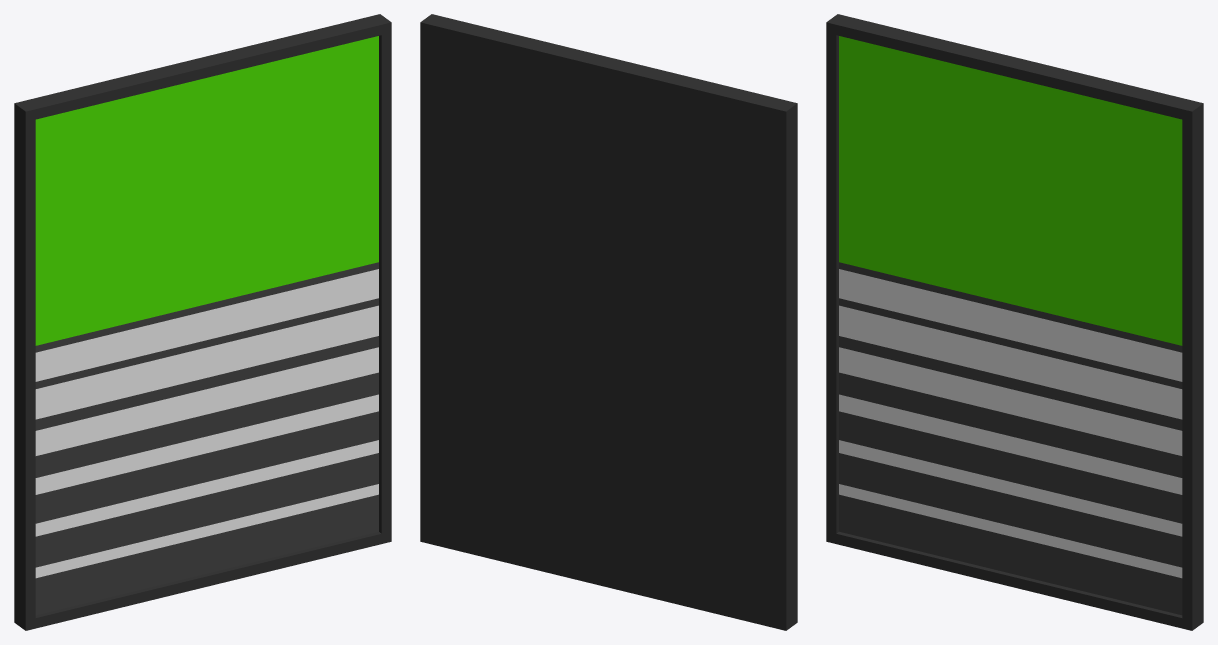
The model's file is Painting_1b.fbx.
3 views of the same model, side by side, from view 1: azimuth 30°, elevation 25°; view 2: azimuth 150°, elevation 25°; view 3: azimuth 330°, elevation 25° (orthographic).
Visible parts, largest first — view 1: Painting_1b; view 2: Painting_1b; view 3: Painting_1b.
Boxes of the visible parts, x1=… form: Painting_1b: x1=14, y1=14, x2=391, y2=630; Painting_1b: x1=420, y1=14, x2=797, y2=630; Painting_1b: x1=826, y1=14, x2=1203, y2=630.
Bounding box in the file's own units: 0.9226 × 1.25 × 0.05.
